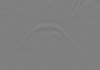hyperbola: (13, 23, 86, 61)
